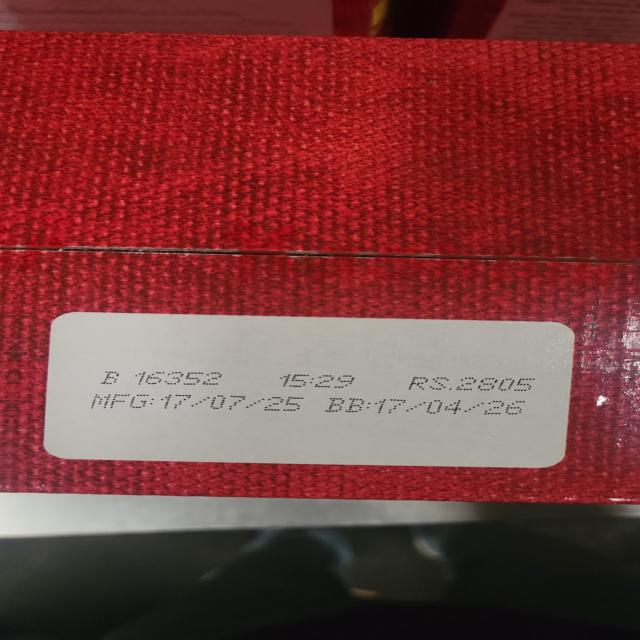BB: (328, 396, 532, 420)
Batch: (102, 365, 229, 387)
MFG: (90, 390, 311, 416)
RS: (408, 374, 539, 396)
TimeStamp: (279, 370, 366, 392)
